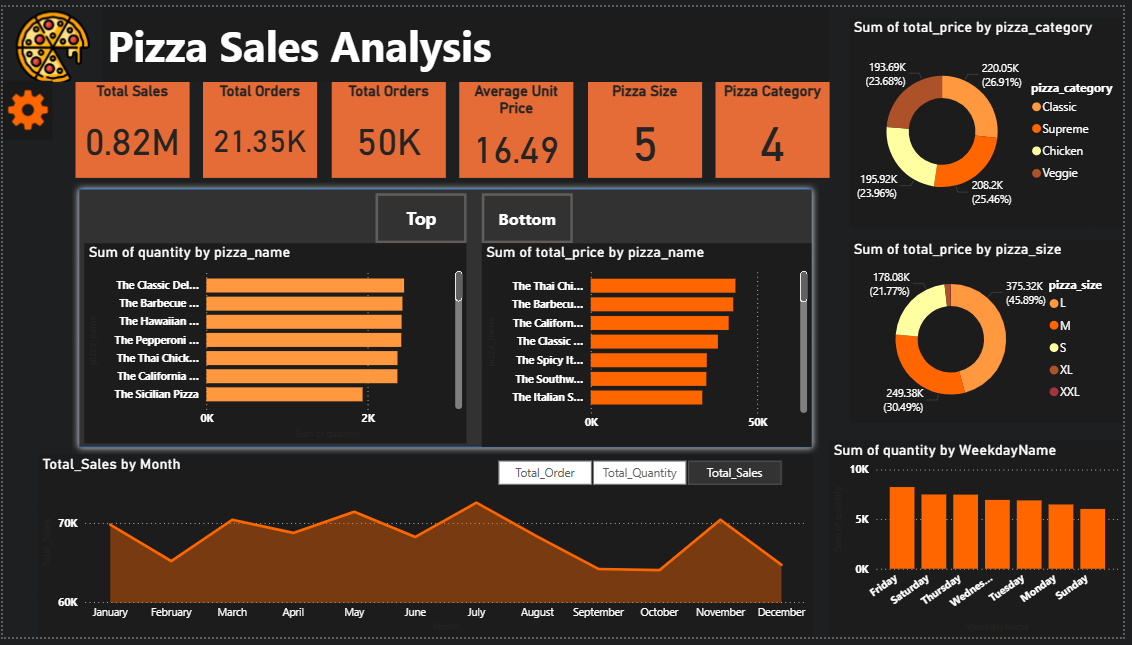

The page's visual inventory and layout, read from the dashboard file:
{"tool":"powerbi","page":{"name":"Page 1","canvas":[1280,720],"ordinal":0},"visuals":[{"type":"card","title":"Pizza Category","fields":{"Values":["Count(pizza_sales.pizza_category)"]},"box":[814.8,86.2,130.5,109.5],"z":0},{"type":"shape","box":[78.6,200,854.3,311.4],"z":0,"group":"g1"},{"type":"lineChart","fields":{"Y":["pizza_sales.Total_Quantity"],"Category":["pizza_sales.order_date.Variation.Date Hierarchy.Month"]},"box":[40,511.4,885.7,208.6],"z":0,"group":"g2"},{"type":"card","title":"Pizza Size","fields":{"Values":["Count(pizza_sales.pizza_size)"]},"box":[668.4,86.2,130,109.5],"z":1000},{"type":"clusteredBarChart","fields":{"Category":["pizza_sales.pizza_name"],"Y":["Sum(pizza_sales.quantity)"]},"box":[93.5,270,437.1,228.6],"z":1000,"group":"g1"},{"type":"slicer","fields":{"Values":["Parameter.Parameter"]},"box":[540.1,511.4,373.3,41.1],"z":1000,"group":"g2"},{"type":"card","title":"Average Unit Price","fields":{"Values":["Avg(pizza_sales.unit_price)"]},"box":[521.6,86.2,130.5,109.5],"z":2000},{"type":"clusteredBarChart","fields":{"Category":["pizza_sales.pizza_name"],"Y":["Sum(pizza_sales.total_price)"]},"box":[547.8,270,377.1,232.9],"z":2000,"group":"g1"},{"type":"actionButton","title":"bottom","box":[547.2,212.9,104.3,57.1],"z":2500,"group":"g1"},{"type":"card","title":"Total Sales","fields":{"Values":["pizza_sales.Sum_Sales"]},"box":[82.5,86.2,130,109.5],"z":3000},{"type":"actionButton","title":"top","box":[425.7,212.9,104.3,57.1],"z":3000,"group":"g1"},{"type":"card","title":"Total Orders","fields":{"Values":["Count(pizza_sales.order_id)"]},"box":[228.8,86.2,130,109.5],"z":4000},{"type":"card","title":"Total Orders","fields":{"Values":["Sum(pizza_sales.quantity)"]},"box":[375.2,86.2,130,109.5],"z":5000},{"type":"donutChart","fields":{"Category":["pizza_sales.pizza_category"],"Y":["Sum(pizza_sales.total_price)"]},"box":[967.4,12.3,312.6,240],"z":6000},{"type":"donutChart","fields":{"Y":["Sum(pizza_sales.total_price)"],"Category":["pizza_sales.pizza_size"]},"box":[967.4,265.8,312.6,209.2],"z":7000},{"type":"columnChart","fields":{"Category":["pizza_sales.WeekdayName"],"Y":["Sum(pizza_sales.quantity)"]},"box":[944.3,495.7,335.7,224.3],"z":8000},{"type":"textbox","box":[114.3,0,830,85.7],"z":9000},{"type":"actionButton","box":[0,0,114.3,85.7],"z":10000},{"type":"group","id":"g1","title":"Group 2","box":[78.6,200,854.3,311.4],"z":11000},{"type":"group","id":"g2","title":"Group 3","box":[40,511.4,885.7,208.6],"z":12000},{"type":"actionButton","title":"Show","box":[0,84.3,57.1,67.1],"z":13000}]}

Visuals, with their boxes in screenshot pixels (x1, y1, x2, y2), scaled from the page's 1280x720 canvas onto the 1132x645 screenshot:
"Pizza Category" card: crop(721, 77, 836, 175)
shape: crop(70, 179, 825, 458)
lineChart - pizza_sales.Total_Quantity x pizza_sales.order_date.Variation.Date Hierarchy.Month: crop(35, 458, 819, 644)
"Pizza Size" card: crop(591, 77, 706, 175)
clusteredBarChart - pizza_sales.pizza_name x Sum(pizza_sales.quantity): crop(83, 242, 469, 447)
slicer - Parameter.Parameter: crop(478, 458, 808, 495)
"Average Unit Price" card: crop(461, 77, 577, 175)
clusteredBarChart - pizza_sales.pizza_name x Sum(pizza_sales.total_price): crop(484, 242, 818, 451)
"bottom" actionButton: crop(484, 191, 576, 242)
"Total Sales" card: crop(73, 77, 188, 175)
"top" actionButton: crop(376, 191, 469, 242)
"Total Orders" card: crop(202, 77, 317, 175)
"Total Orders" card: crop(332, 77, 447, 175)
donutChart - pizza_sales.pizza_category x Sum(pizza_sales.total_price): crop(856, 11, 1131, 226)
donutChart - Sum(pizza_sales.total_price) x pizza_sales.pizza_size: crop(856, 238, 1131, 426)
columnChart - pizza_sales.WeekdayName x Sum(pizza_sales.quantity): crop(835, 444, 1131, 644)
textbox: crop(101, 0, 835, 77)
actionButton: crop(0, 0, 101, 77)
"Group 2" group: crop(70, 179, 825, 458)
"Group 3" group: crop(35, 458, 819, 644)
"Show" actionButton: crop(0, 76, 50, 136)
